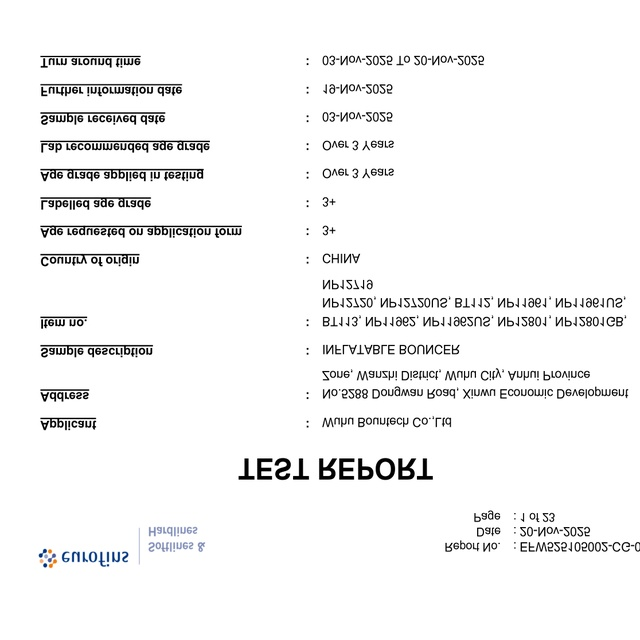eurofins: (35, 542, 134, 575)
